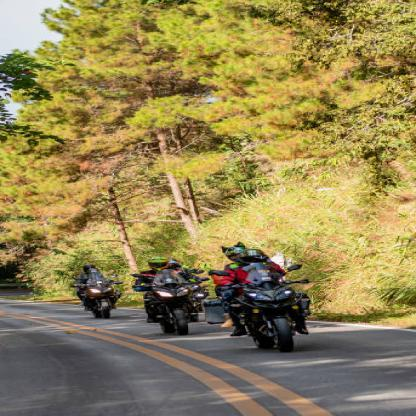Motorcycle: (224, 267, 317, 354), (146, 280, 210, 339)
